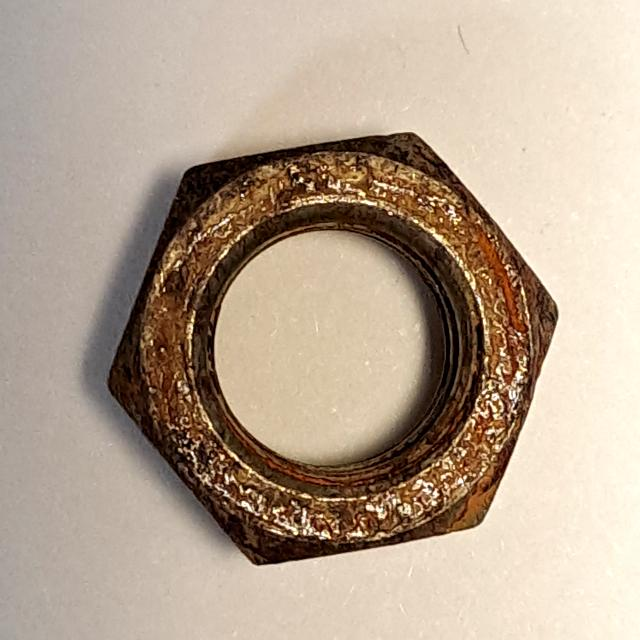Rust: (87, 107, 575, 583)
